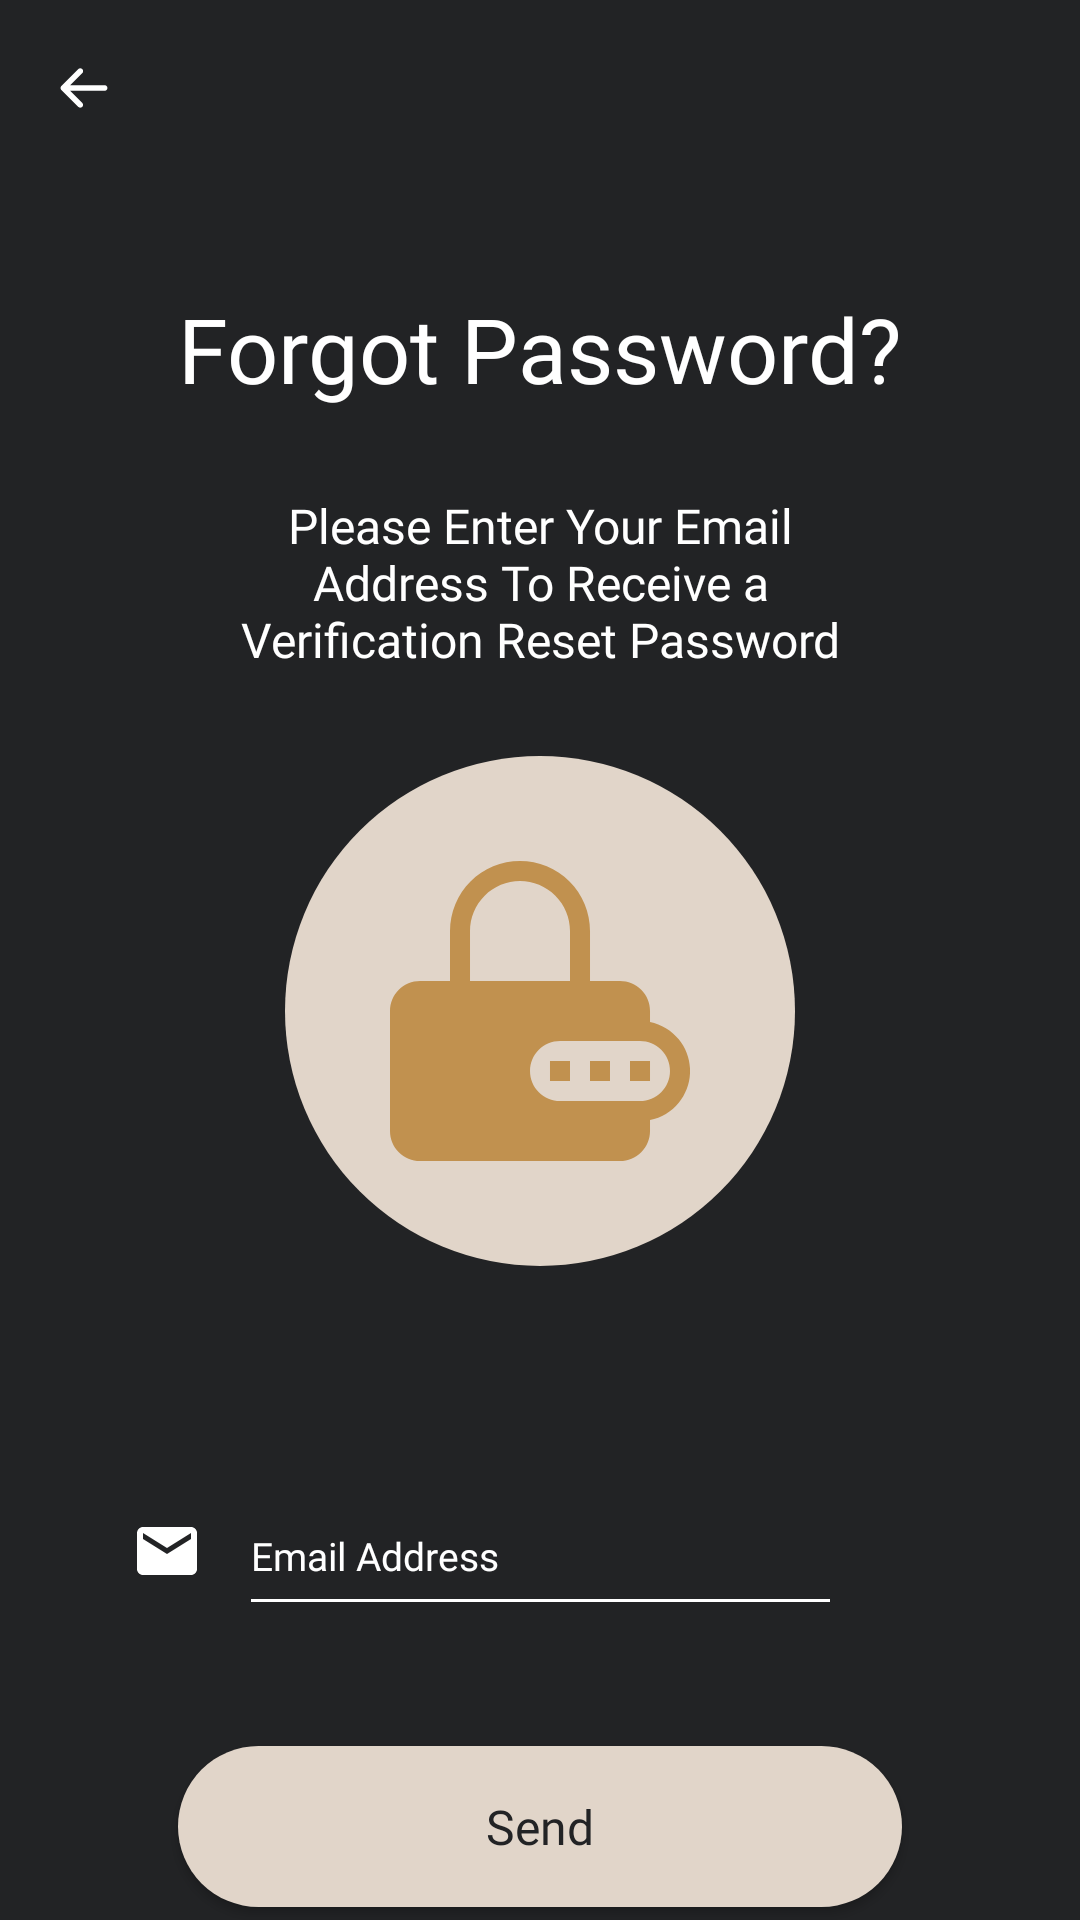

Icon bounding boxes for this 1080px x 1920px phone screenshot, format region(x1, y1, x2, y2):
Back: region(60, 68, 108, 108)
password key: region(390, 861, 690, 1161)
